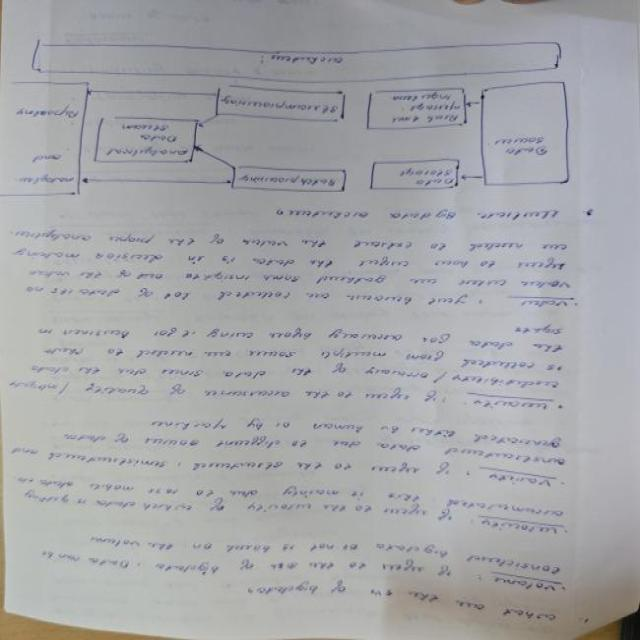Figure Detection - v3 Dataset Version2: (0, 28, 583, 205)
